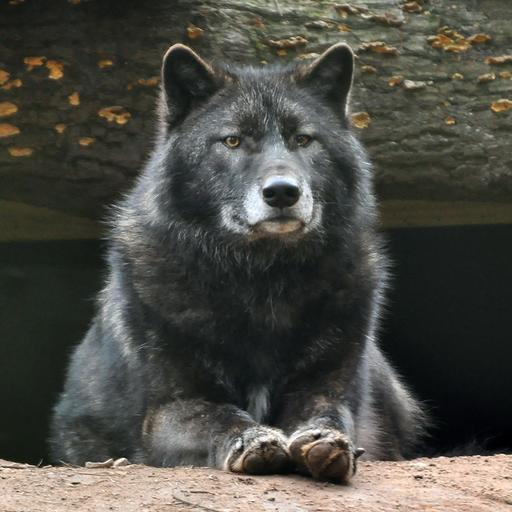Wolf: (52, 39, 434, 485)
